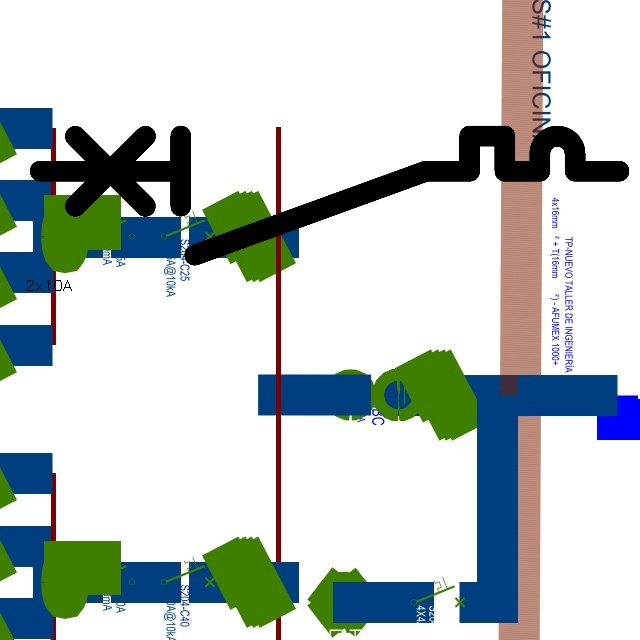interruptor_termomagnetico: (25, 121, 634, 270)
